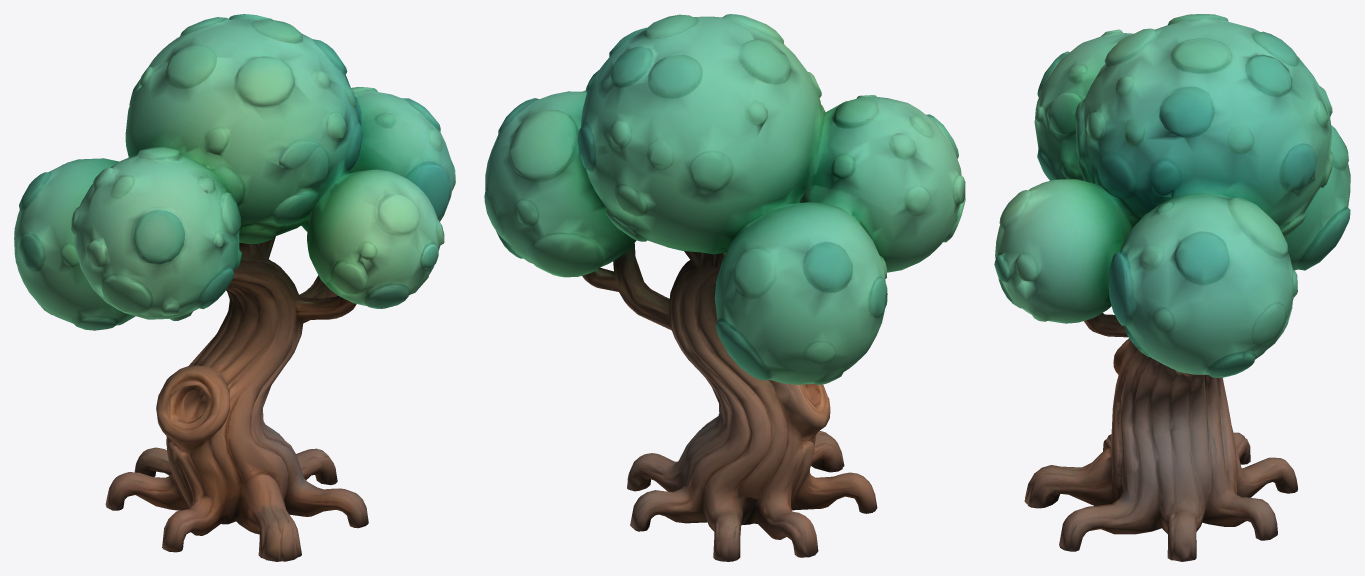
Rendered from tree.glb.
The picture shows the model from 3 angles, left to right: view 1: azimuth 30°, elevation 25°; view 2: azimuth 150°, elevation 25°; view 3: azimuth 270°, elevation 25°; orthographic projection. The views are drawn at different scales.
Visible parts, largest first — view 1: node_0; view 2: node_0; view 3: node_0.
Boxes of the visible parts, x1,y1,x2,y2 form: node_0: [14, 14, 455, 561]; node_0: [484, 14, 965, 561]; node_0: [994, 14, 1350, 561].
Size of the model in its own units: 0.9316 by 1.03 by 0.6797.
1 material, 1 textured.
